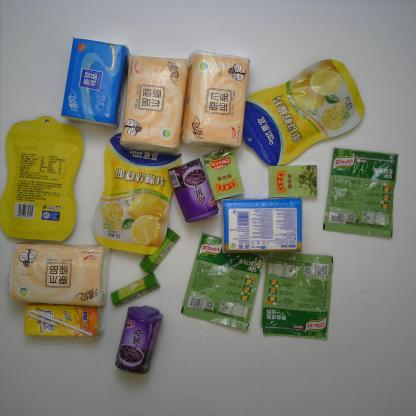Candy: (201, 146, 245, 204), (266, 163, 320, 200)
Canned Food: (166, 155, 219, 224), (114, 304, 164, 376)
Dried Fruit: (242, 56, 368, 170), (91, 127, 183, 257), (1, 114, 85, 243)
Drink: (21, 300, 107, 340)
Seasoner: (178, 230, 266, 332), (321, 143, 401, 240), (260, 248, 334, 342)
Stationery: (139, 226, 181, 276), (109, 273, 162, 310)
Tissue: (5, 238, 112, 310), (118, 51, 191, 156), (179, 47, 252, 151), (58, 35, 132, 132), (217, 194, 305, 258)
